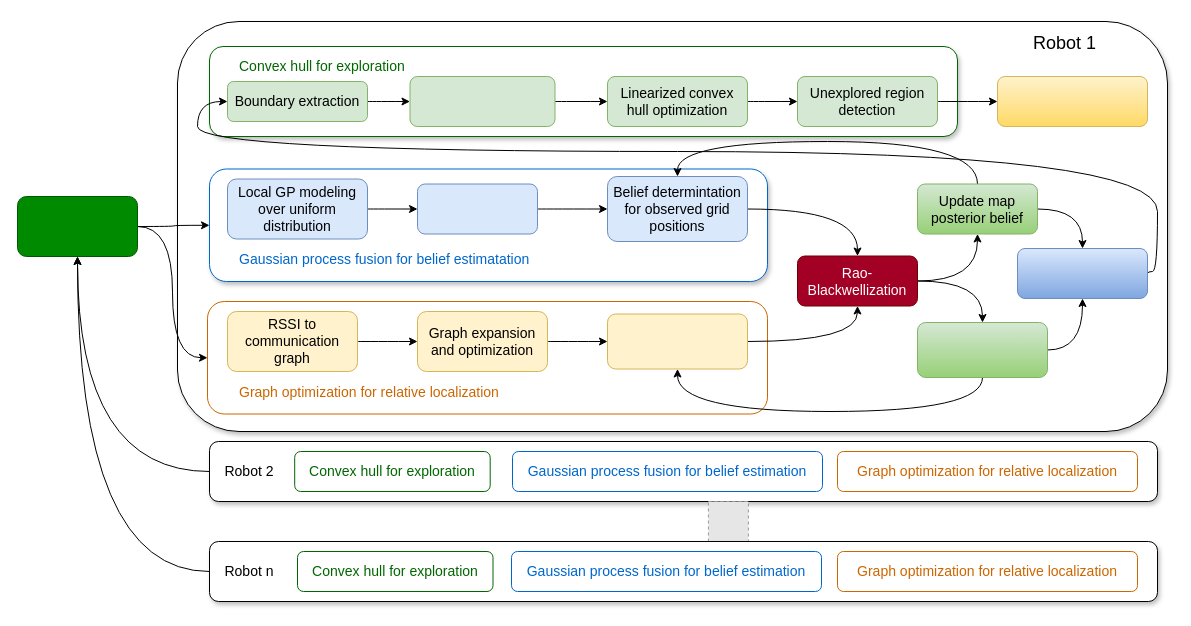
This 1191x626 diagram has some shape labels left out. Grey dashed boxes stand in for pictures. The centre of each missing label's shape, as x and y in pixels:
Convex hull determination: point 482,101
GP mixing for global GP: point 477,208
GP to Exploration Grid: point 1082,273
Navigate robot for maximum exploration: point 1072,101
Position belief determination: point 677,341
Shared Information: point 77,226
Update position posterior belief: point 982,350
